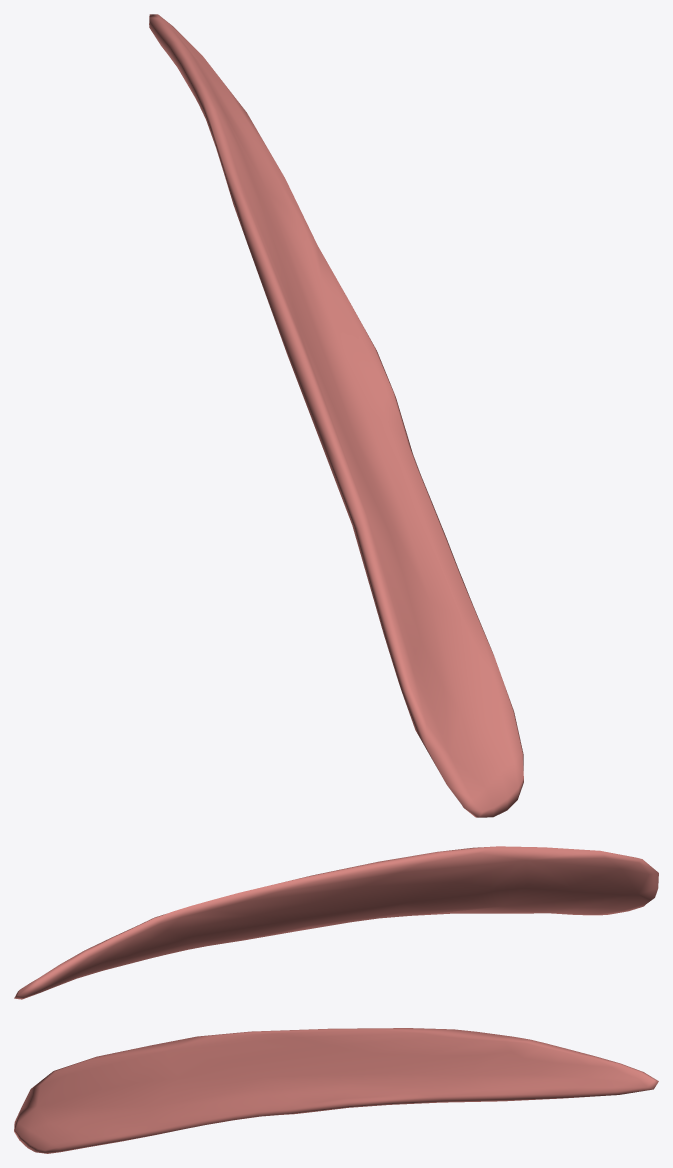
The picture shows the model from 3 angles, top to bottom: view 1: azimuth 30°, elevation 25°; view 2: azimuth 150°, elevation 25°; view 3: azimuth 270°, elevation 25°; orthographic projection. The views are drawn at different scales.
Parts seen in each view (by area): view 1: ZA_aae2978dcb96f136; view 2: ZA_aae2978dcb96f136; view 3: ZA_aae2978dcb96f136.
Boxes of the visible parts, x1,y1,x2,y2 form: ZA_aae2978dcb96f136: [149, 14, 523, 817]; ZA_aae2978dcb96f136: [14, 846, 658, 999]; ZA_aae2978dcb96f136: [14, 1028, 658, 1153].
Size of the model in its own units: 0.0102 by 0.0084 by 0.0314.
